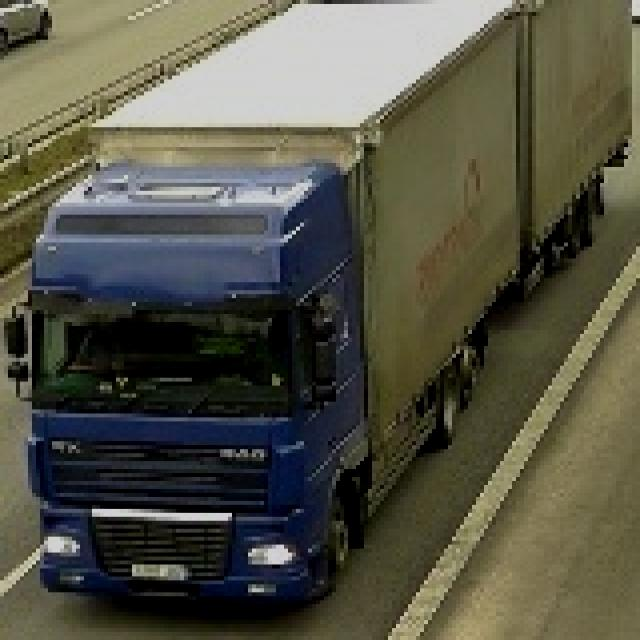TRUCK: (16, 0, 636, 604)
